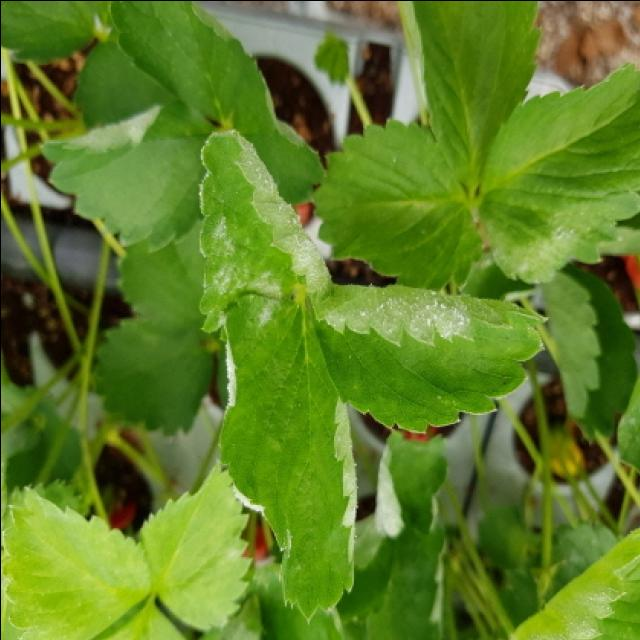Powdery Mildew Leaf: (216, 289, 358, 627), (472, 61, 638, 285), (306, 282, 547, 435), (196, 128, 334, 342), (35, 101, 212, 254), (324, 430, 451, 640), (506, 527, 638, 640)
